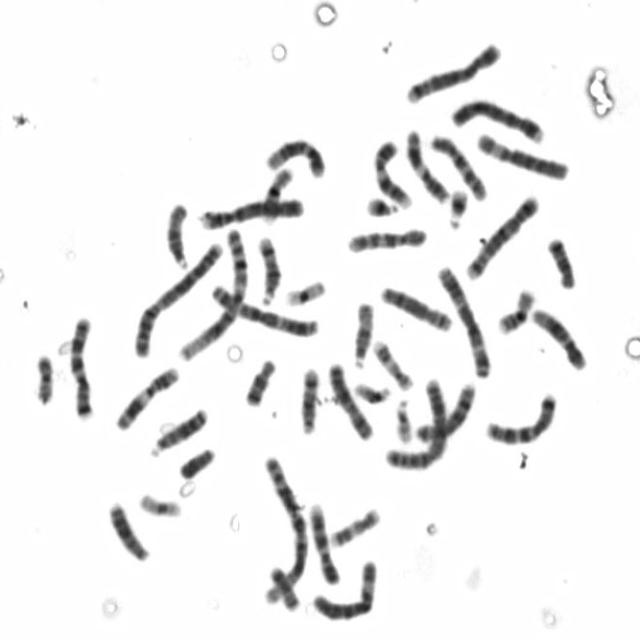A1: (173, 224, 251, 363), (255, 447, 310, 613)
A2: (128, 235, 225, 358), (382, 373, 451, 471)
A3: (432, 258, 494, 379), (206, 278, 322, 339)
B4: (447, 93, 547, 145), (195, 191, 307, 231)
B5: (463, 188, 543, 282), (401, 36, 504, 105)
C10: (426, 127, 489, 204), (342, 221, 429, 255)
C11: (111, 361, 182, 433), (401, 123, 452, 205)
C12: (528, 301, 590, 372), (261, 131, 327, 179)
C6: (472, 127, 573, 182), (308, 552, 381, 622)
C7: (480, 386, 560, 447), (65, 308, 97, 422)
C8: (412, 376, 478, 443), (375, 279, 455, 334)
C9: (368, 133, 414, 210), (304, 496, 343, 586)
D13: (146, 401, 210, 458), (104, 495, 152, 563)
D14: (253, 230, 284, 306), (296, 362, 322, 435)
D15: (161, 197, 191, 270), (348, 296, 376, 370)
E16: (492, 282, 538, 336), (258, 160, 295, 225)
E17: (325, 500, 383, 550), (368, 332, 416, 392)
E18: (543, 230, 579, 291), (240, 352, 278, 408)
F19: (134, 486, 184, 519), (281, 274, 328, 308)
F20: (264, 559, 302, 613), (29, 346, 56, 406)
G21: (443, 182, 470, 231), (361, 190, 401, 219)
G22: (390, 391, 416, 445), (350, 376, 392, 406)
X: (324, 356, 377, 442)
Y: (175, 440, 218, 481)
